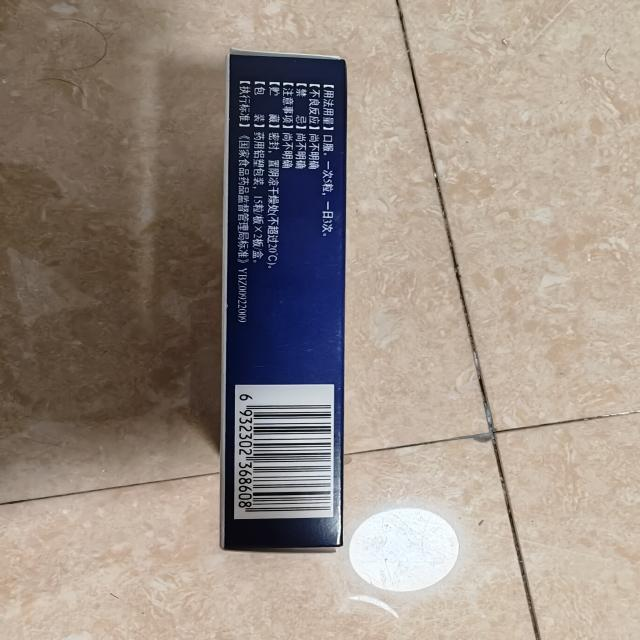box: (210, 44, 356, 561)
